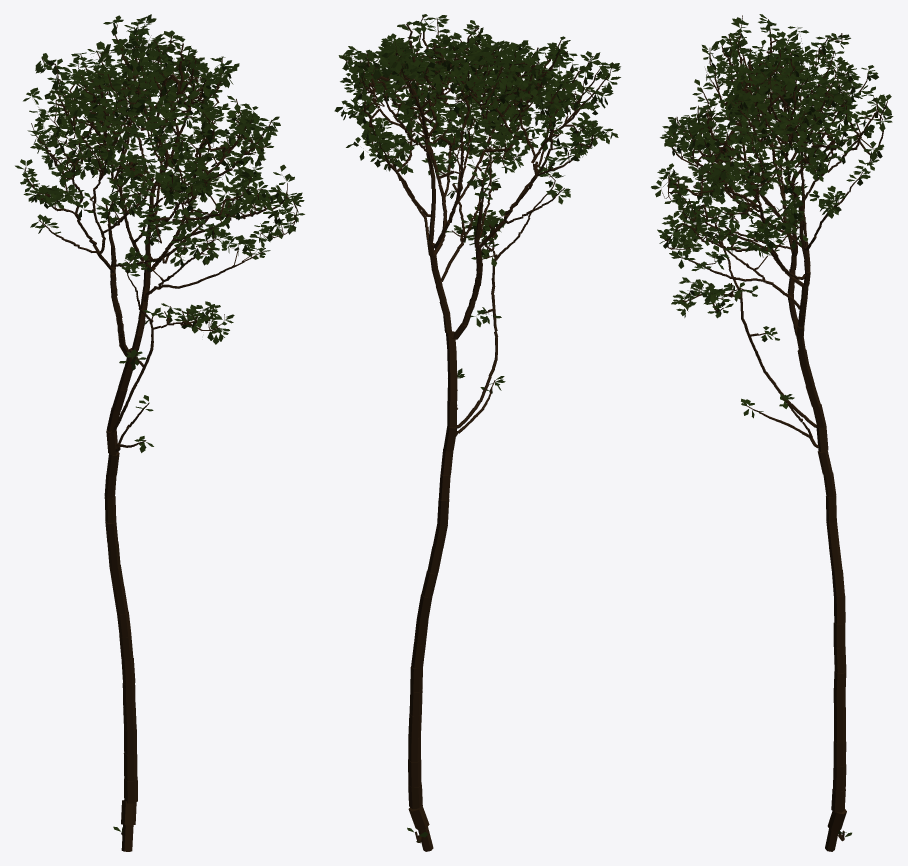
File: 2022_tree_24.obj
3 views of the same model, side by side, from view 1: azimuth 30°, elevation 25°; view 2: azimuth 150°, elevation 25°; view 3: azimuth 270°, elevation 25° (orthographic). The views are drawn at different scales.
Visible parts, largest first — view 1: Leaves, TrunkAndBranches; view 2: Leaves, TrunkAndBranches; view 3: Leaves, TrunkAndBranches.
Part boxes in pixels (x1,y1,x2,y2): Leaves: (15,14,304,832); TrunkAndBranches: (24,19,297,851); Leaves: (334,14,620,842); TrunkAndBranches: (342,16,612,851); Leaves: (651,14,893,836); TrunkAndBranches: (661,15,887,851).
Size of the model in its own units: 7.98 by 24.28 by 6.74.
